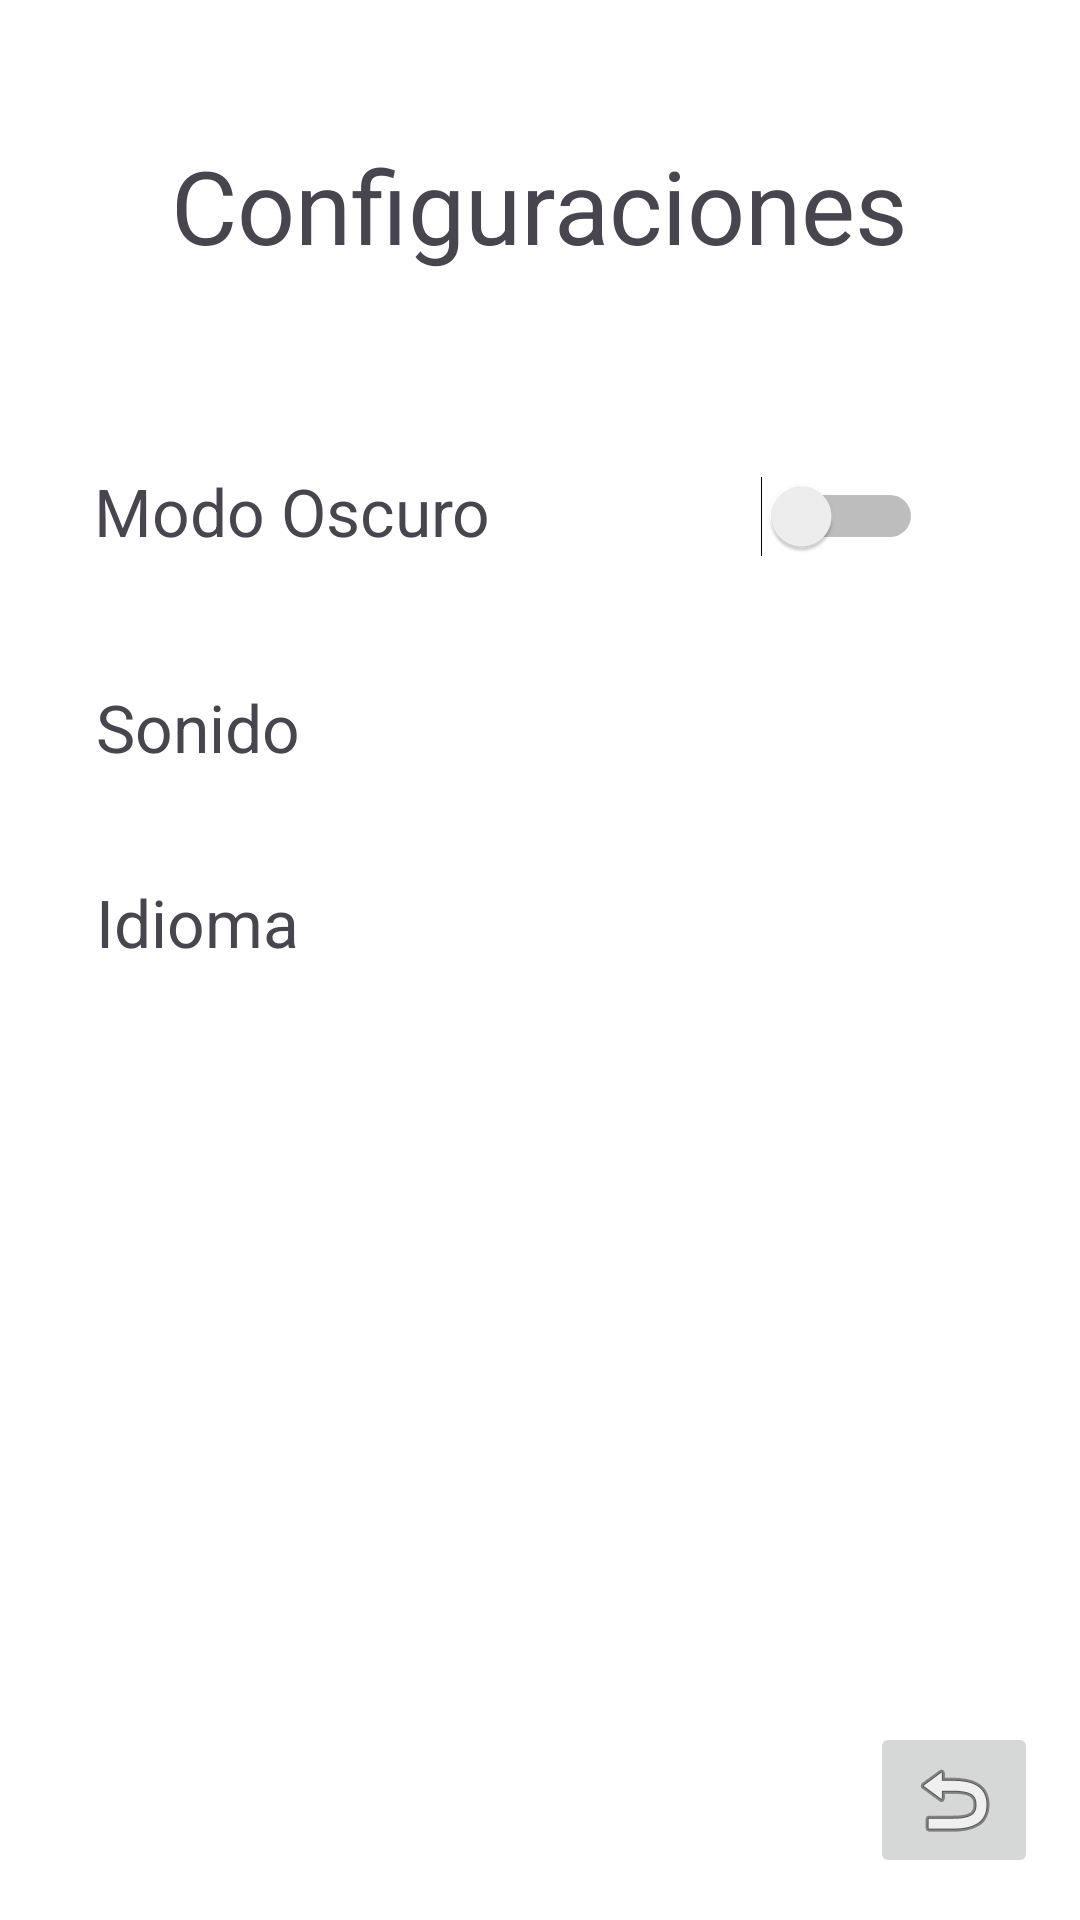

Where to tap for icons on this 1080*1920 app screen, as (x,y):
revert: (954,1800)
